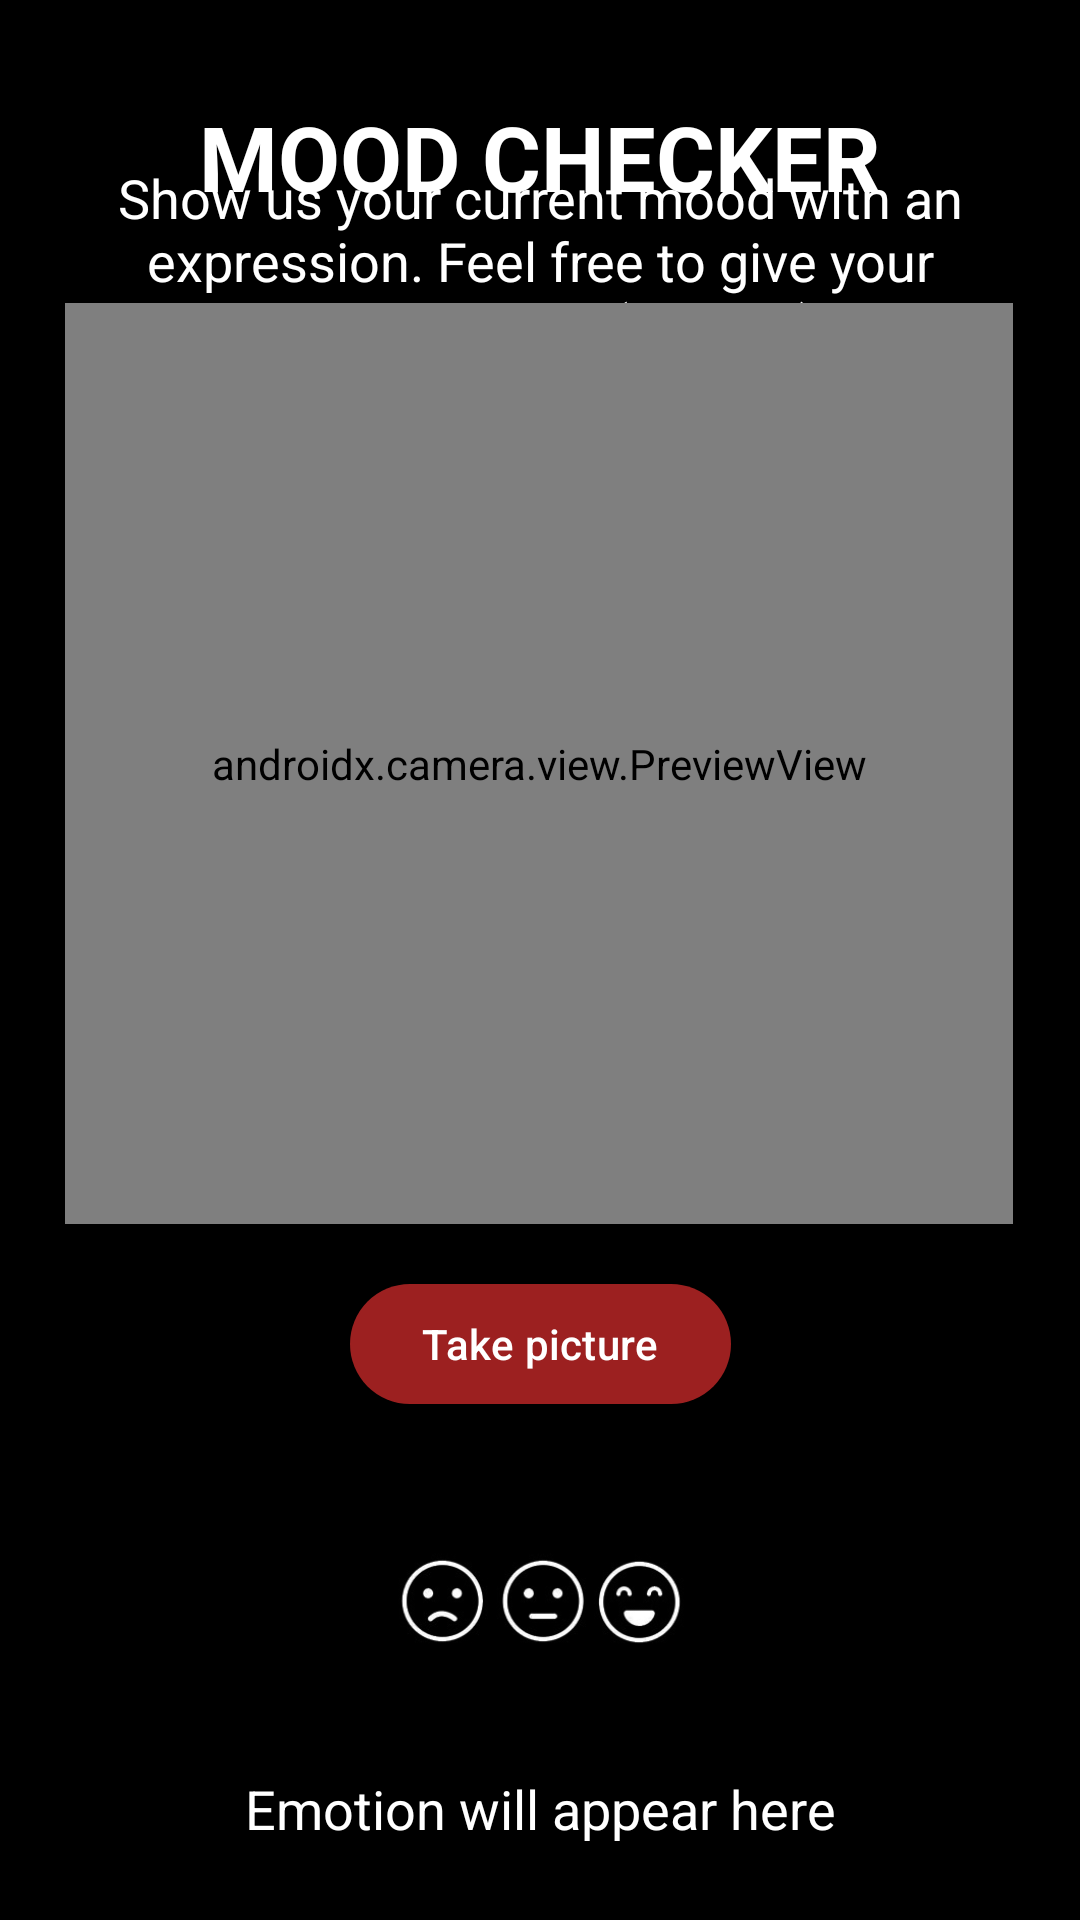

Icons on this 1080 × 1920 Android screen, each with the point to tap as (x=x, y=y):
moods: (x=540, y=1601)
